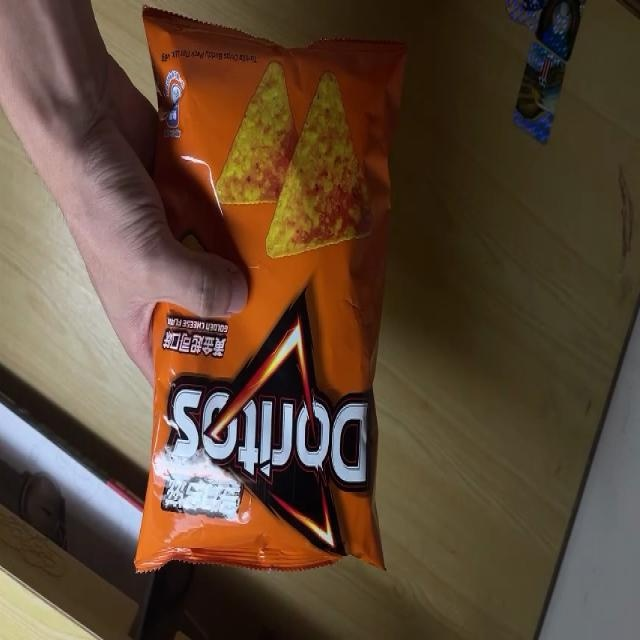Doritos: (132, 8, 407, 574)
